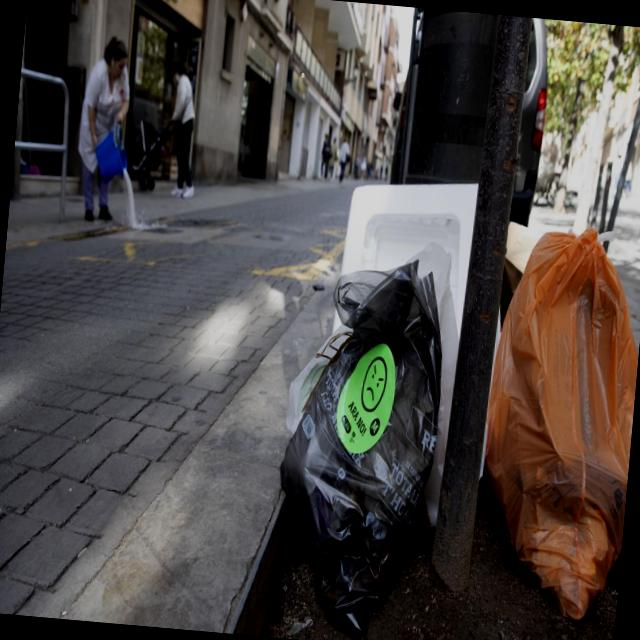garbage: (236, 156, 640, 640)
